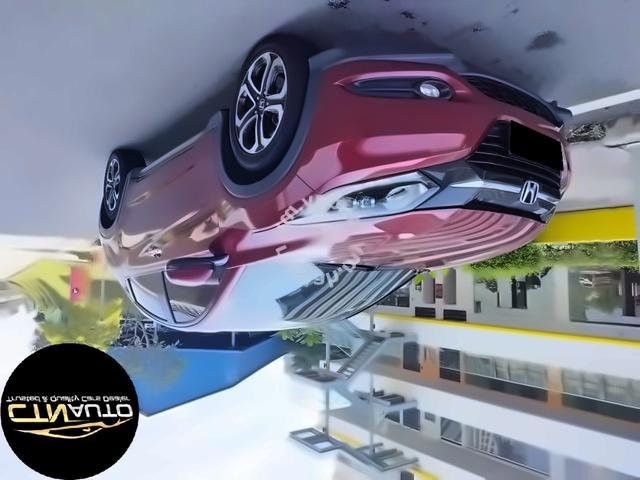Car hood: (286, 204, 549, 274)
Fender - -F-L-: (214, 116, 316, 270)
Fender - -R-L-: (99, 197, 124, 273)
Front bumper: (289, 35, 576, 195)
Headlight - -L-: (281, 165, 444, 228)
Passenger-s door - -F-L-: (153, 127, 214, 328)
Passenger-s door - -R-L-: (116, 168, 166, 325)
Side bumper - -L-: (122, 104, 232, 186)
Side mirror - -L-: (162, 254, 225, 291)
